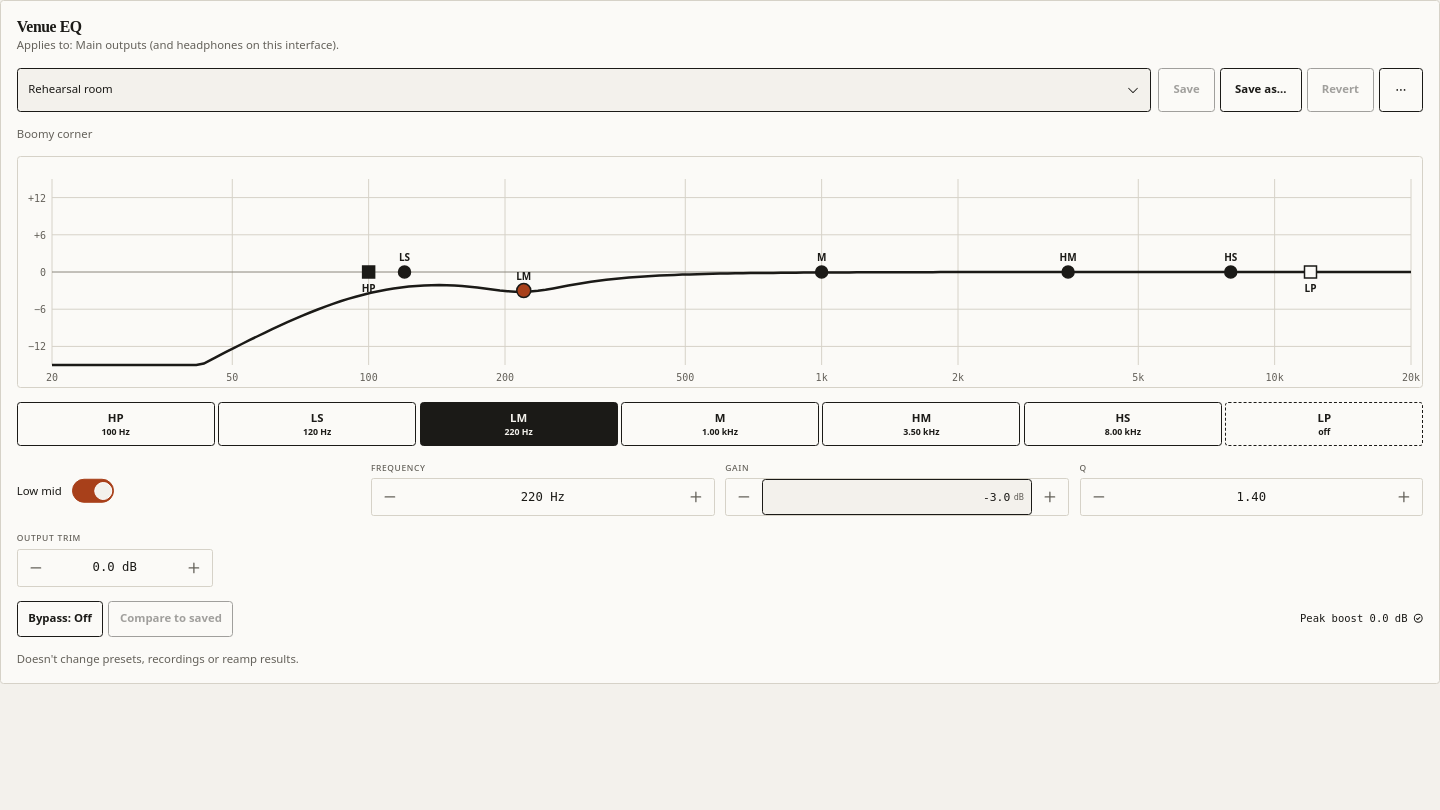
previews a step at once and shows Edited with Save and Revert
Expected: the dropdown named "Venue profile" is shown, [17, 68, 1152, 112]
Click the button named "Raise Gain" at (1050, 497), box [1032, 479, 1068, 515]
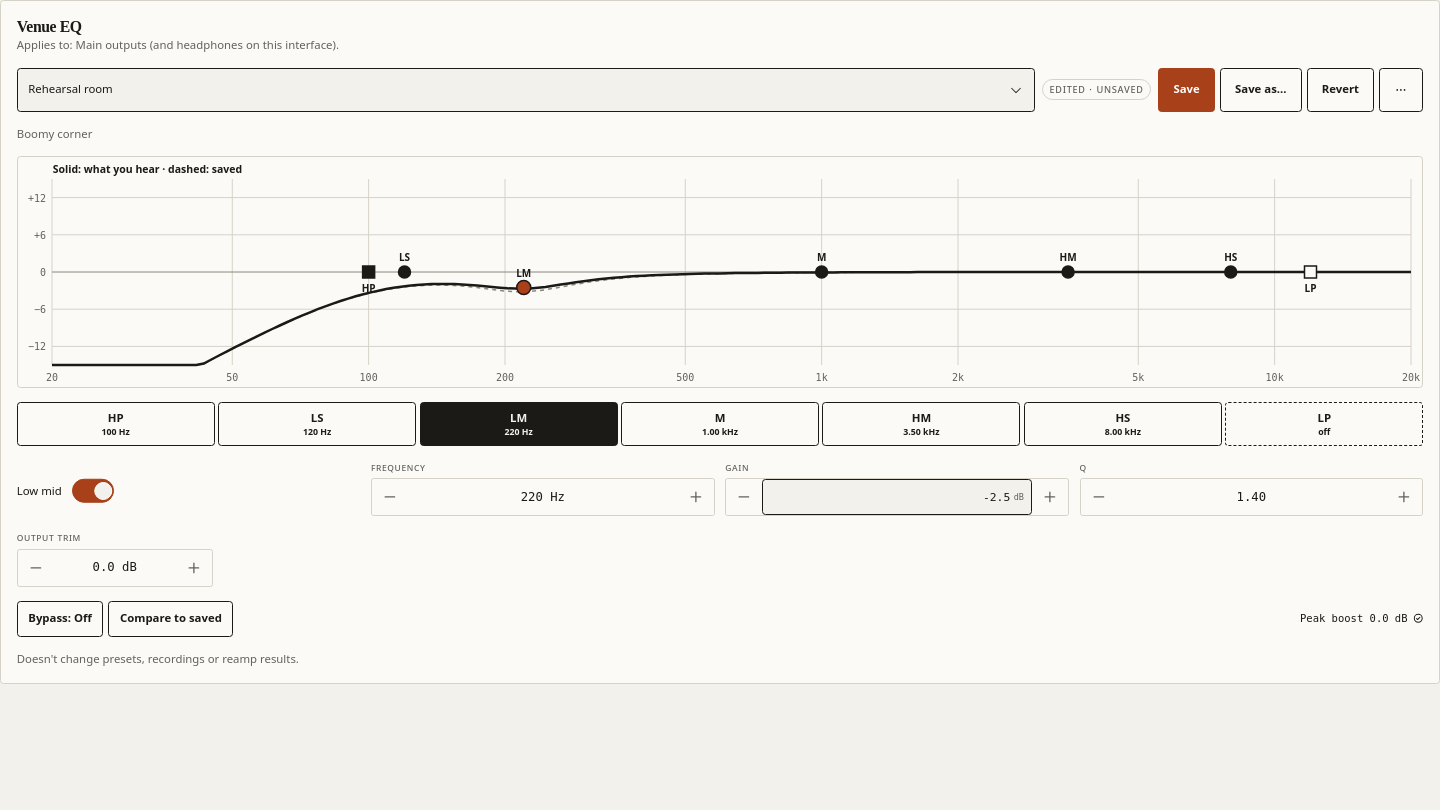
Expected: the text "Edited · unsaved" is shown, [1042, 79, 1152, 100]
Expected: the button "Save" is enabled, [1158, 68, 1215, 112]
Expected: the text "Solid: what you hear · dashed: saved" is shown, [53, 162, 242, 177]
Click the button "Compare to saved" at (171, 619), box [108, 601, 233, 637]
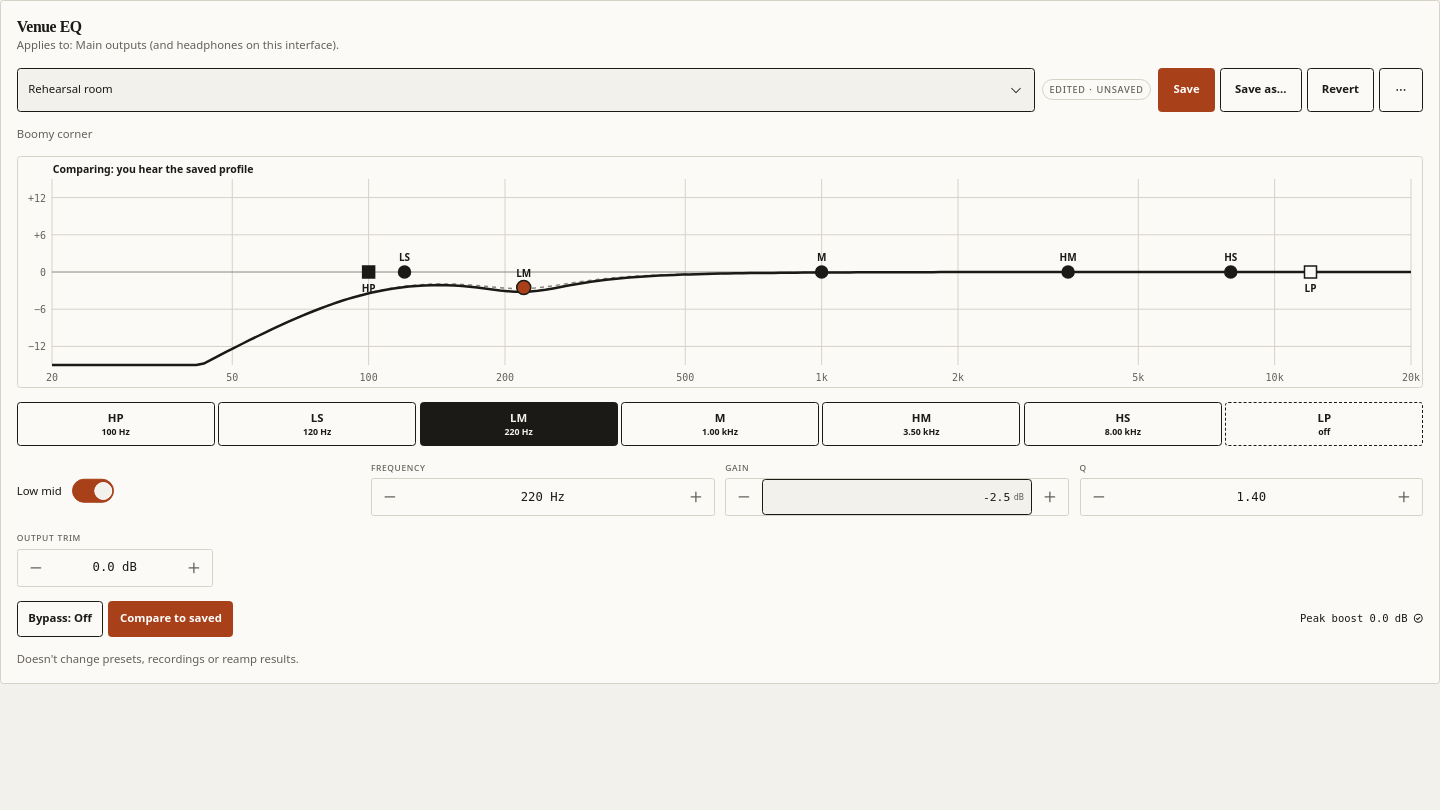
Expected: the text "Comparing: you hear the saved profile" is shown, [53, 162, 254, 177]
Click the button "Revert" at (1340, 90), box [1307, 68, 1374, 112]
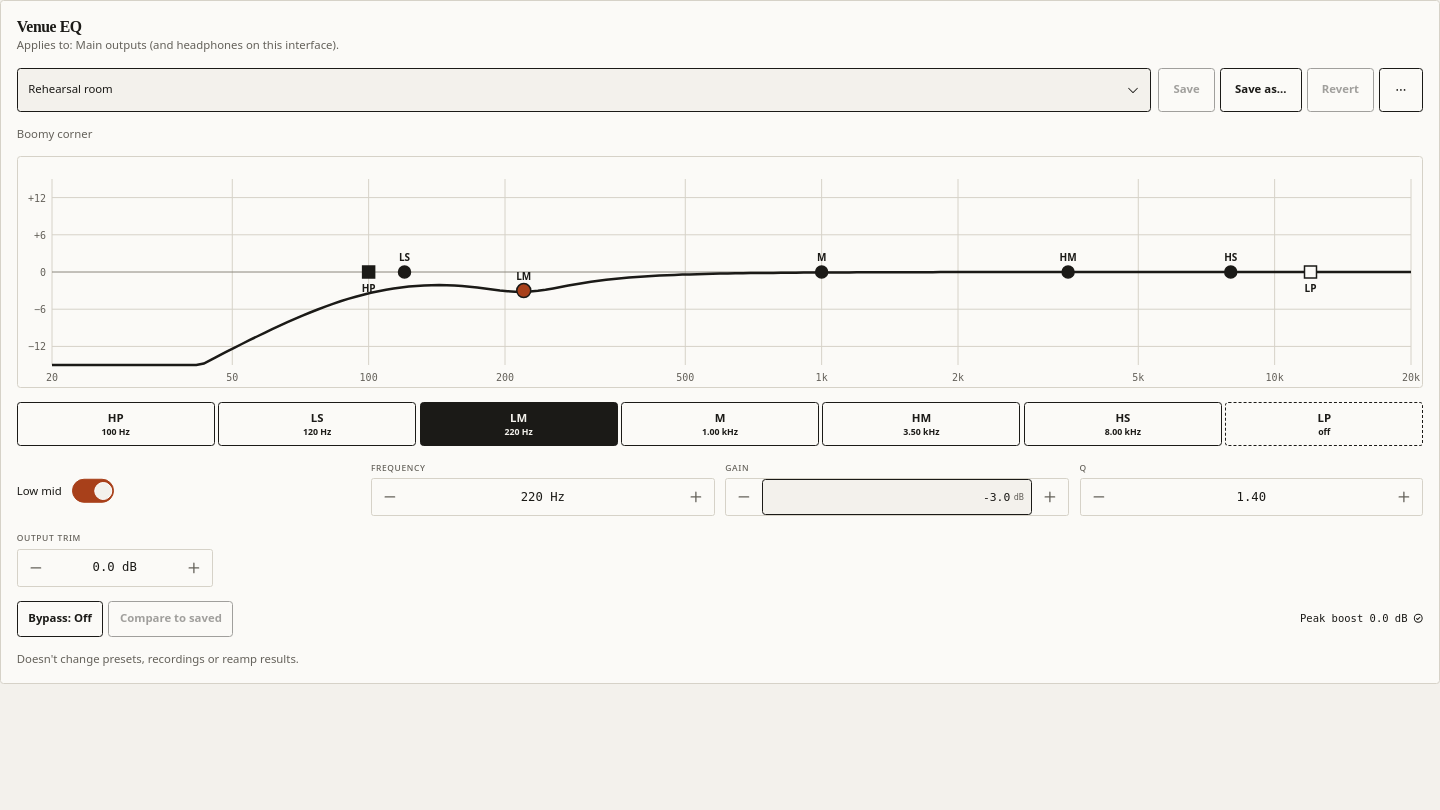
Expected: the text "Edited · unsaved" is gone
